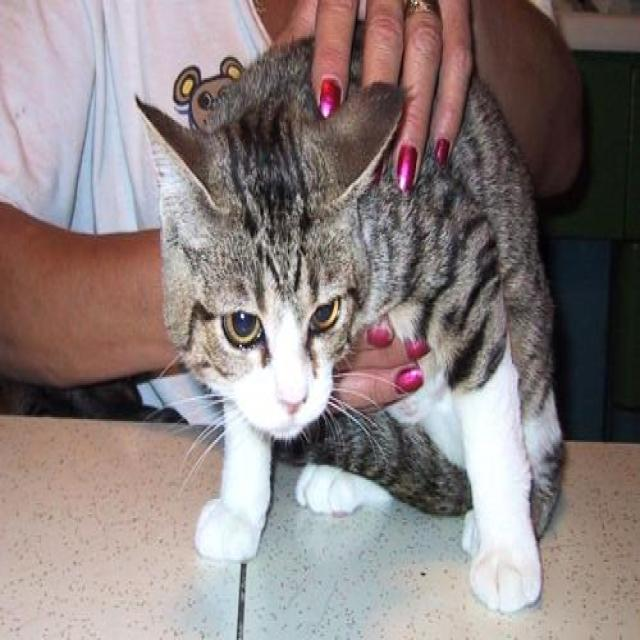Cats: (133, 31, 565, 612)
